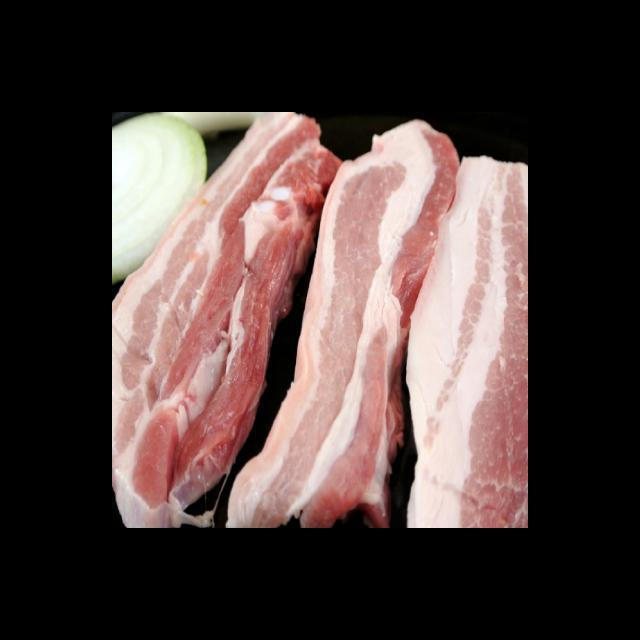pork: (123, 112, 527, 527)
